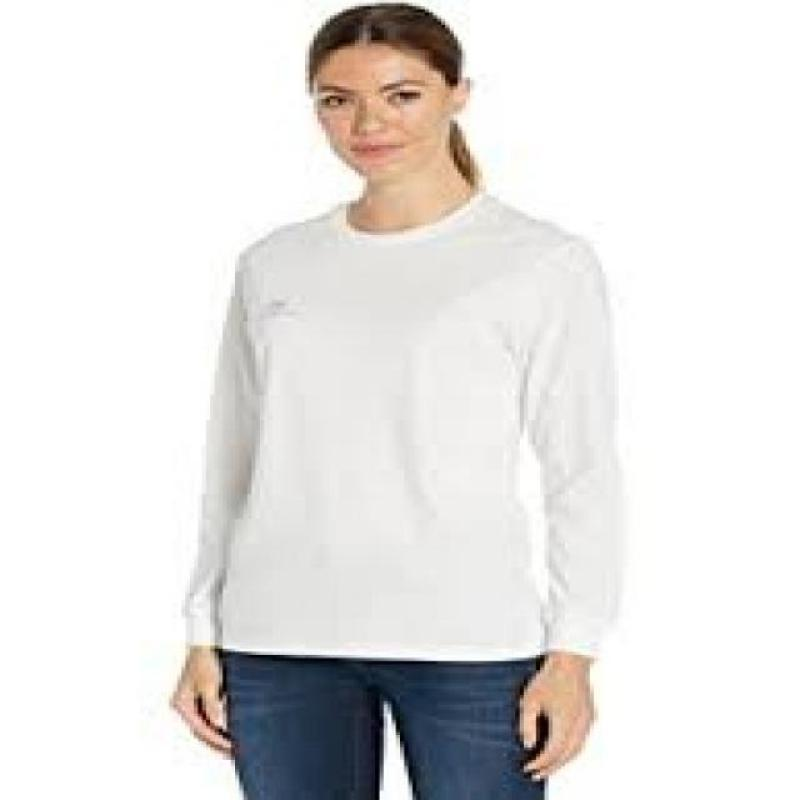long sleeve shirt: (183, 192, 630, 659)
trousers: (213, 647, 549, 800)
